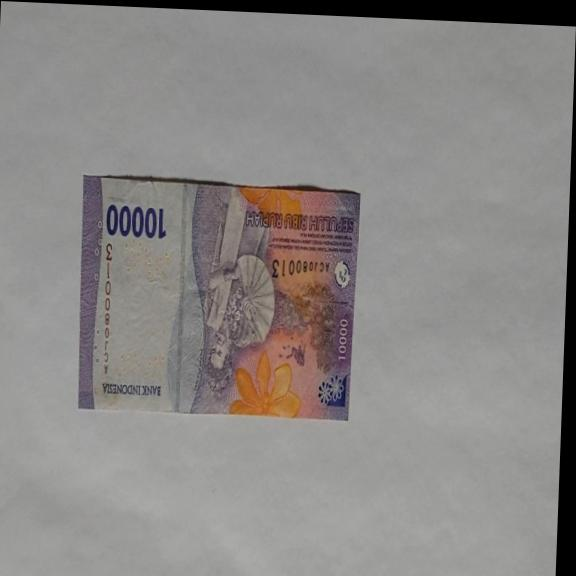Kertas: (74, 173, 360, 424)
